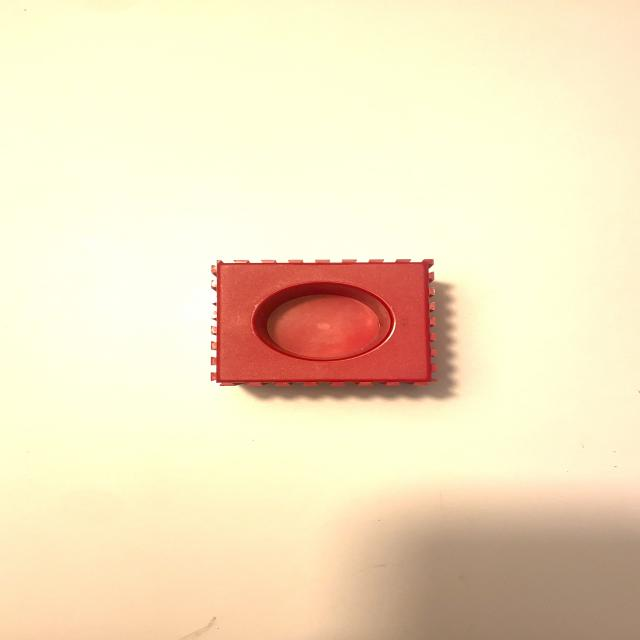Empty_Slot: (210, 260, 435, 386)
